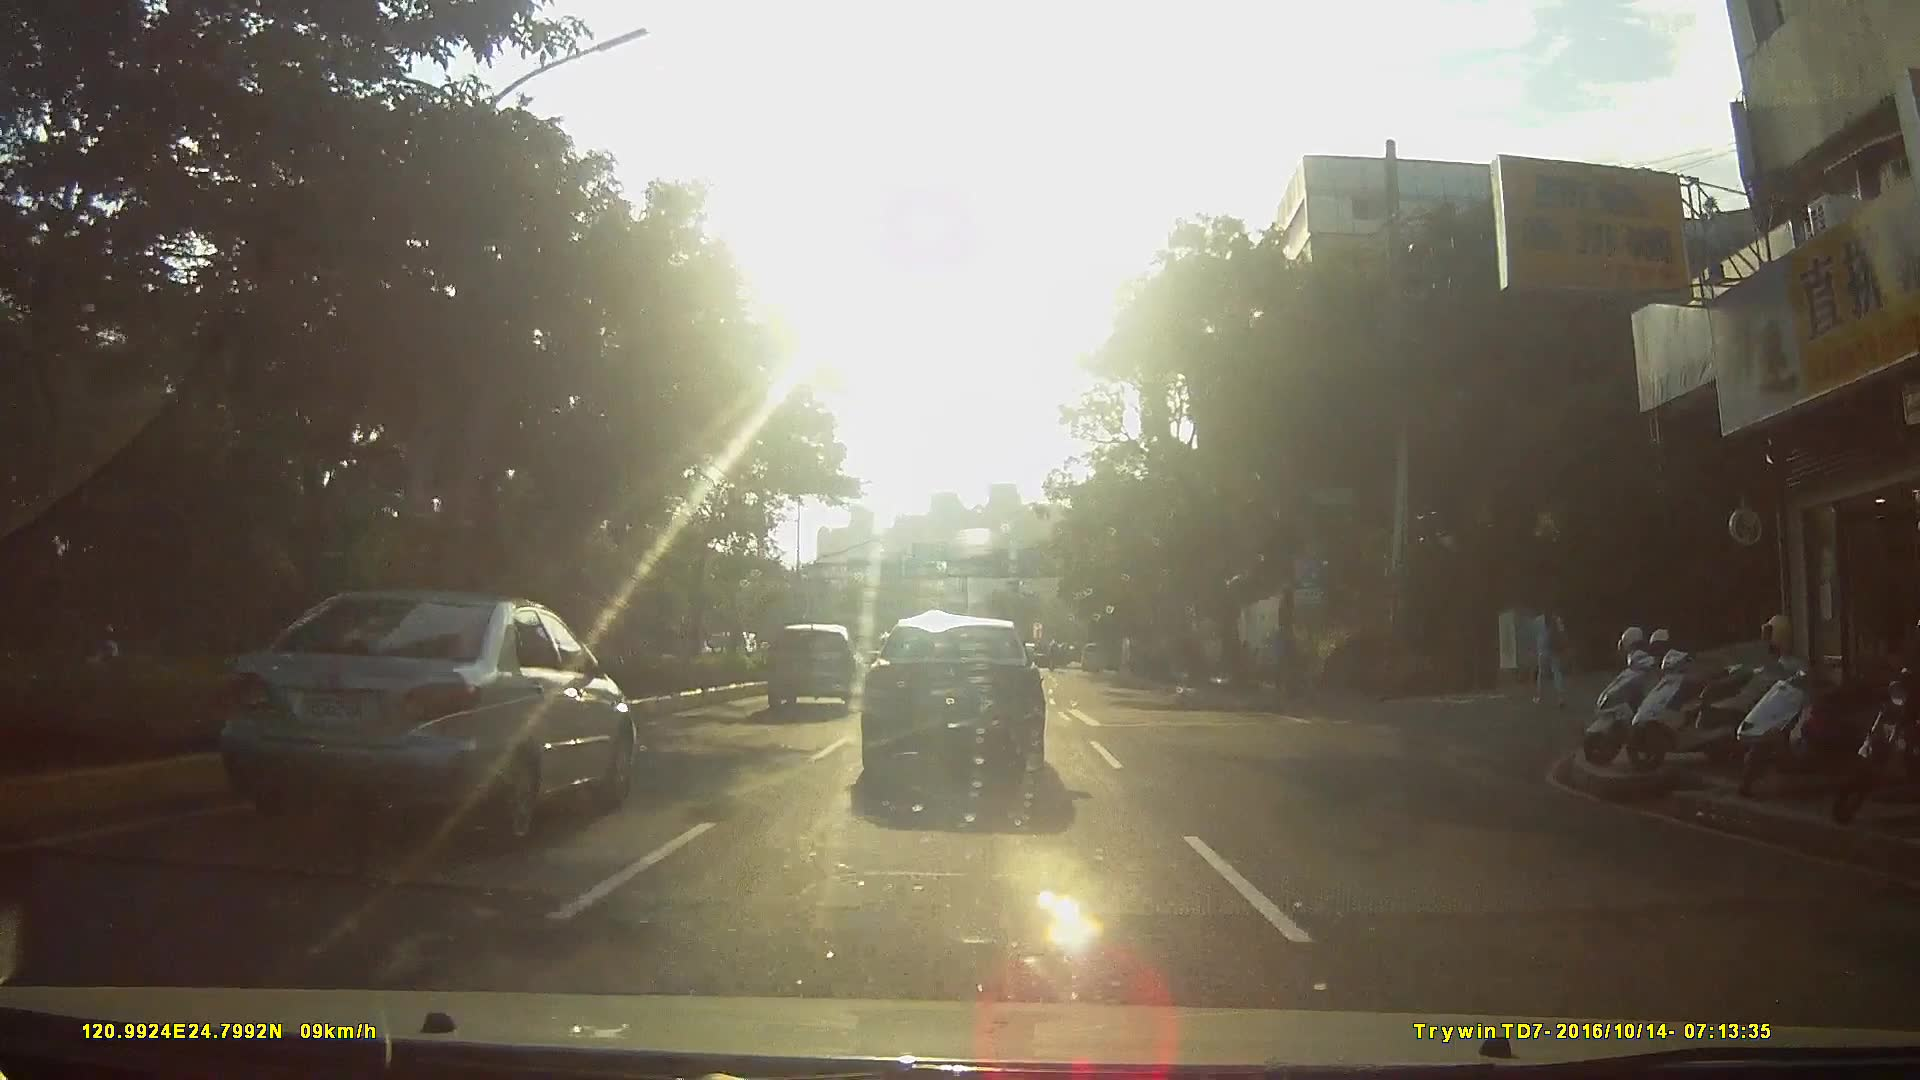pedestrian: (1534, 590, 1583, 702)
vehicle: (208, 586, 644, 848), (864, 613, 1066, 787), (765, 622, 871, 711), (1078, 640, 1111, 673)
